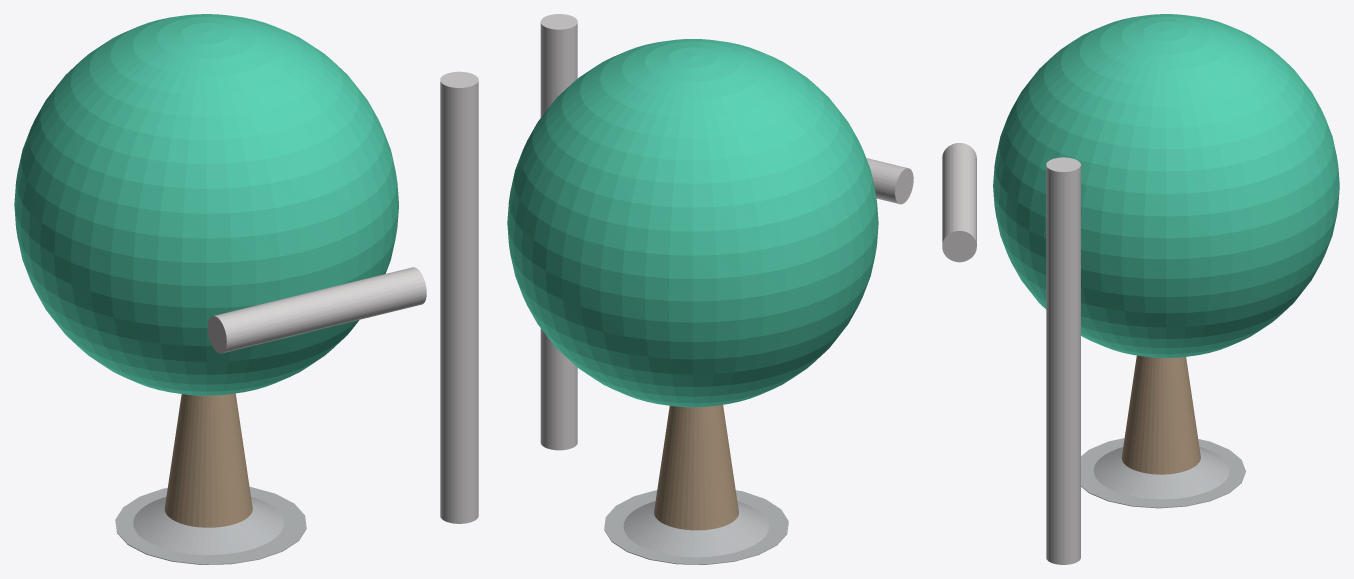
The model's file is MainSphereTreeTorq.glb.
The picture shows the model from 3 angles, left to right: view 1: azimuth 30°, elevation 25°; view 2: azimuth 150°, elevation 25°; view 3: azimuth 270°, elevation 25°; orthographic projection. The views are drawn at different scales.
Visible parts, largest first — view 1: Mesh_Mesh_head_geo.001_lambert2SG.001; view 2: Mesh_Mesh_head_geo.001_lambert2SG.001; view 3: Mesh_Mesh_head_geo.001_lambert2SG.001.
Part boxes in pixels (box(x1,y1,x2,y2)): Mesh_Mesh_head_geo.001_lambert2SG.001: box(14, 14, 478, 564); Mesh_Mesh_head_geo.001_lambert2SG.001: box(507, 14, 913, 564); Mesh_Mesh_head_geo.001_lambert2SG.001: box(942, 14, 1339, 564).
Size of the model in its own units: 5.68 by 7.02 by 5.73.
